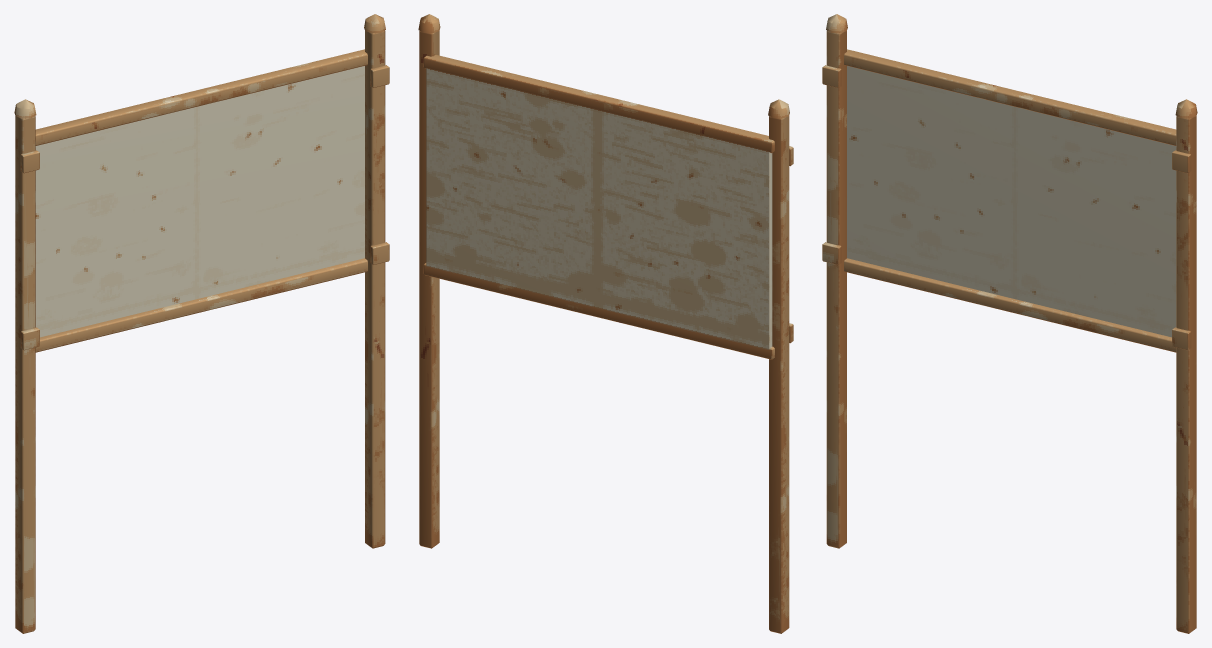
File: sign_posts.glb
3 renders of one model, left to right at view 1: azimuth 30°, elevation 25°; view 2: azimuth 150°, elevation 25°; view 3: azimuth 330°, elevation 25°, orthographic.
Parts seen in each view (by area): view 1: mesh; view 2: mesh; view 3: mesh.
Part boxes in pixels (<box>): mesh: <box>14,14,389,633</box>; mesh: <box>418,14,793,633</box>; mesh: <box>822,14,1197,633</box>.
Size of the model in its own units: 1.31 by 1.8 by 0.08.
Materials: 1 (1 with a texture image).
